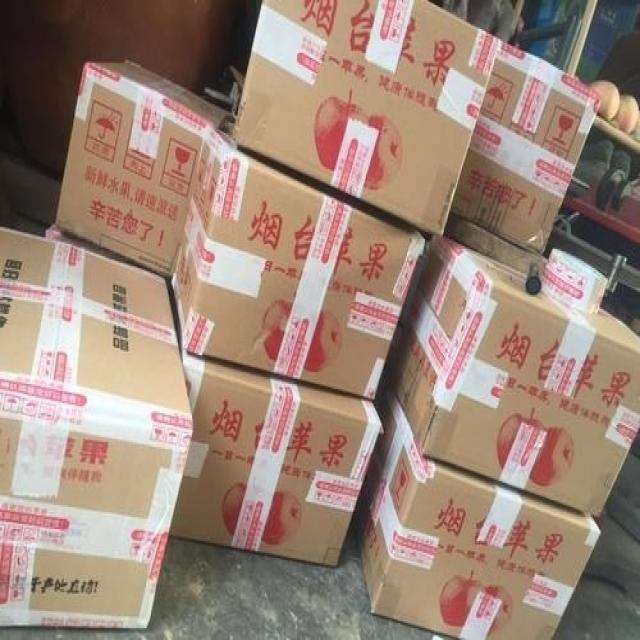box: (0, 225, 193, 627), (383, 230, 639, 517), (171, 127, 430, 399), (353, 373, 602, 638), (231, 1, 502, 235), (167, 355, 385, 567), (50, 60, 237, 280), (451, 41, 602, 255), (442, 210, 549, 281)
